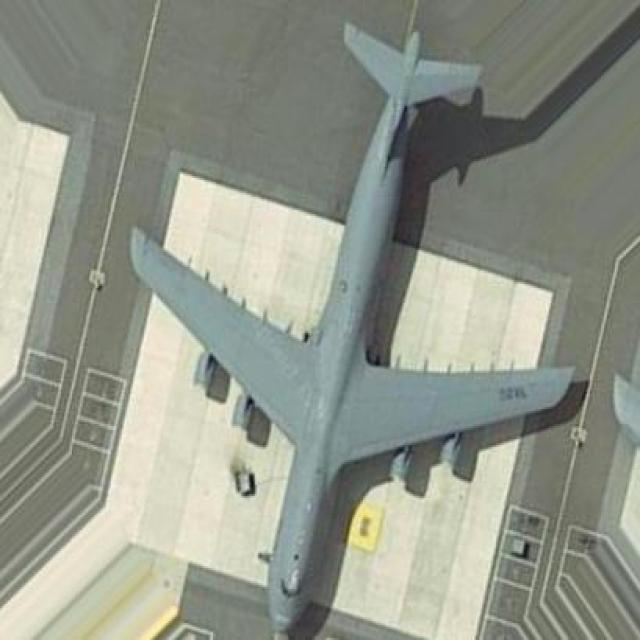C-5_TopDown: (120, 18, 594, 631)
